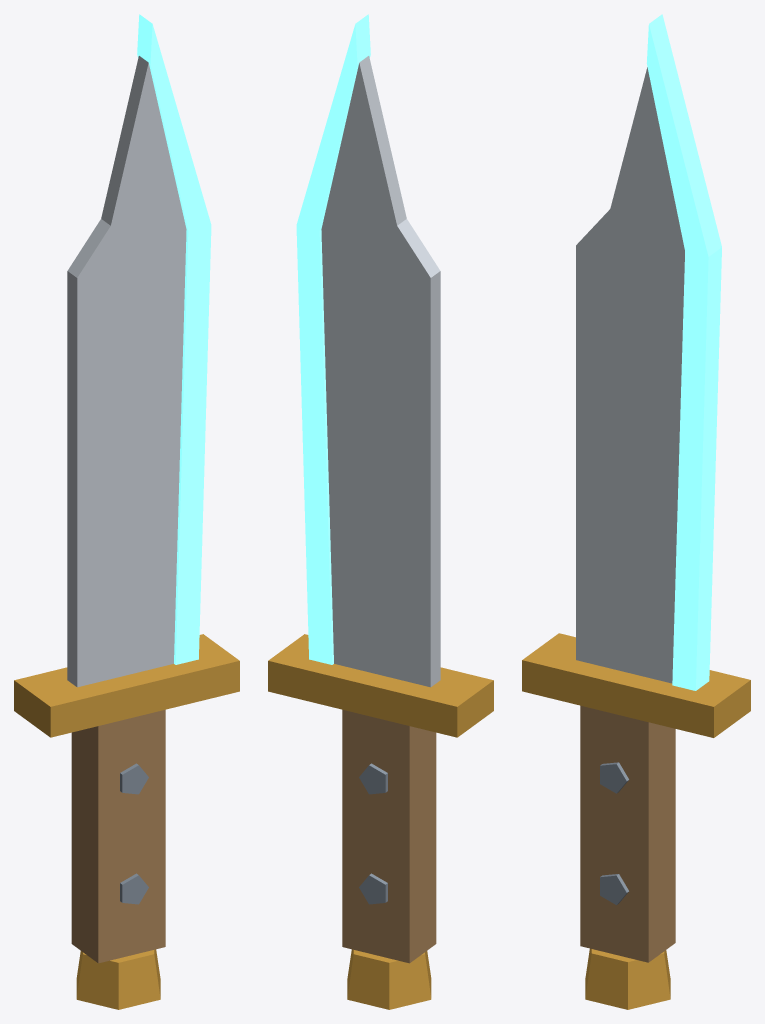
File: Wpn_Melee_PlasmaBowie.fbx
3 views of the same model, side by side, from view 1: azimuth 30°, elevation 25°; view 2: azimuth 150°, elevation 25°; view 3: azimuth 330°, elevation 25° (orthographic).
Parts seen in each view (by area): view 1: Wpn_Melee_PlasmaBowie_Body, Wpn_Melee_PlasmaBowie_Edge; view 2: Wpn_Melee_PlasmaBowie_Body, Wpn_Melee_PlasmaBowie_Edge; view 3: Wpn_Melee_PlasmaBowie_Body, Wpn_Melee_PlasmaBowie_Edge.
Boxes of the visible parts, x1=… form: Wpn_Melee_PlasmaBowie_Body: x1=14, y1=56, x2=239, y2=1009; Wpn_Melee_PlasmaBowie_Edge: x1=137, y1=14, x2=211, y2=664; Wpn_Melee_PlasmaBowie_Body: x1=268, y1=56, x2=493, y2=1009; Wpn_Melee_PlasmaBowie_Edge: x1=296, y1=14, x2=370, y2=664; Wpn_Melee_PlasmaBowie_Body: x1=522, y1=67, x2=750, y2=1009; Wpn_Melee_PlasmaBowie_Edge: x1=646, y1=14, x2=721, y2=690.
Bounding box in the file's own units: 0.09 × 0.438 × 0.0346.
